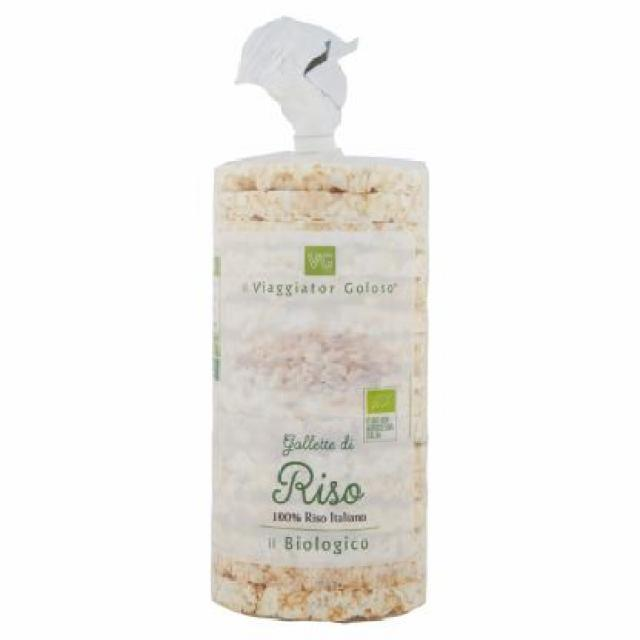Gallette di riso: (194, 11, 438, 626)
